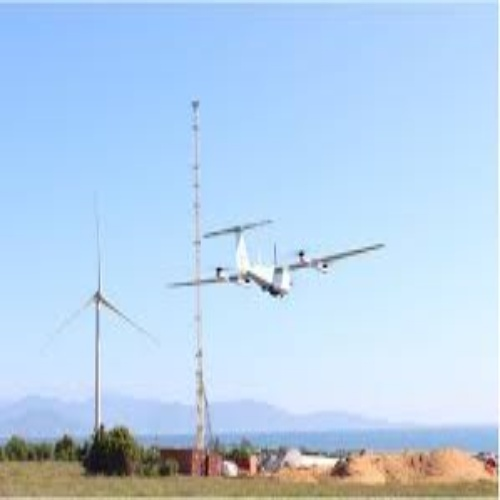uav595: (172, 217, 386, 301)
